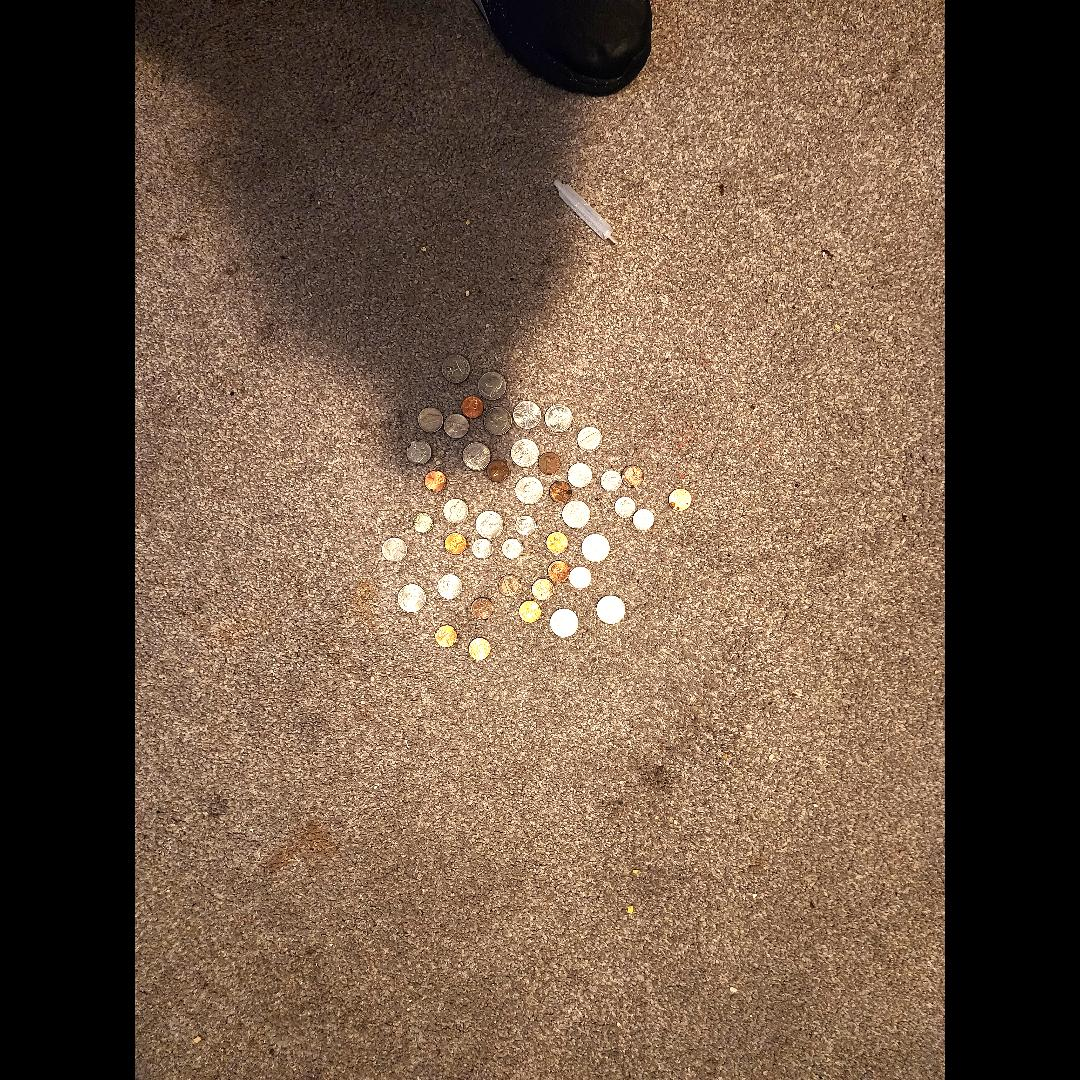Dime: (601, 471, 623, 493), (412, 512, 434, 534), (614, 498, 634, 518), (634, 510, 654, 530), (502, 538, 522, 558), (516, 515, 536, 535), (474, 538, 493, 558)
Nickel: (418, 406, 444, 432), (577, 426, 603, 452), (444, 412, 468, 440), (444, 498, 468, 524), (437, 573, 461, 599), (382, 537, 406, 563), (407, 440, 433, 464), (568, 464, 592, 488)
Penny: (444, 532, 468, 556), (497, 574, 521, 598), (518, 601, 542, 624), (622, 465, 645, 488), (468, 636, 490, 660), (669, 488, 691, 512), (546, 530, 568, 554), (538, 452, 560, 476), (549, 482, 573, 504), (549, 559, 571, 582), (531, 578, 553, 601), (436, 623, 457, 647), (425, 470, 447, 492), (463, 396, 485, 418), (486, 460, 508, 482), (472, 598, 494, 620), (570, 567, 590, 589)
Quarter: (441, 354, 473, 384), (514, 476, 544, 504), (513, 400, 541, 430), (596, 596, 623, 626), (582, 534, 610, 562), (463, 442, 491, 470), (483, 408, 511, 436), (400, 584, 426, 614), (512, 438, 538, 468), (551, 609, 577, 637), (478, 373, 506, 399), (477, 511, 503, 539), (564, 500, 588, 530), (546, 406, 572, 432)
